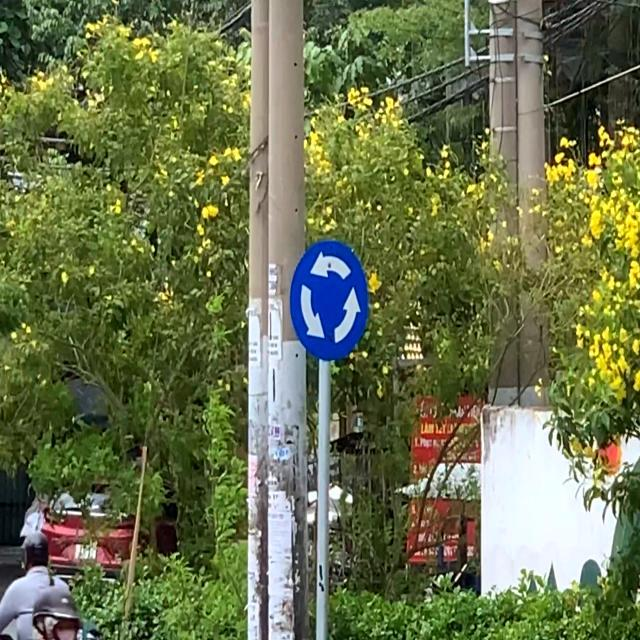R-303: (292, 240, 368, 358)
